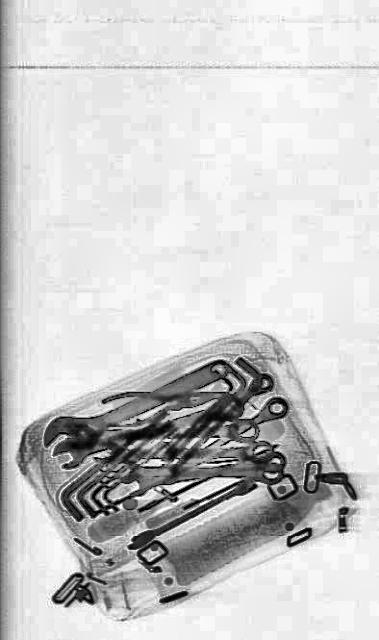Wrench: (38, 342, 230, 468), (51, 390, 243, 472), (123, 457, 283, 497)
